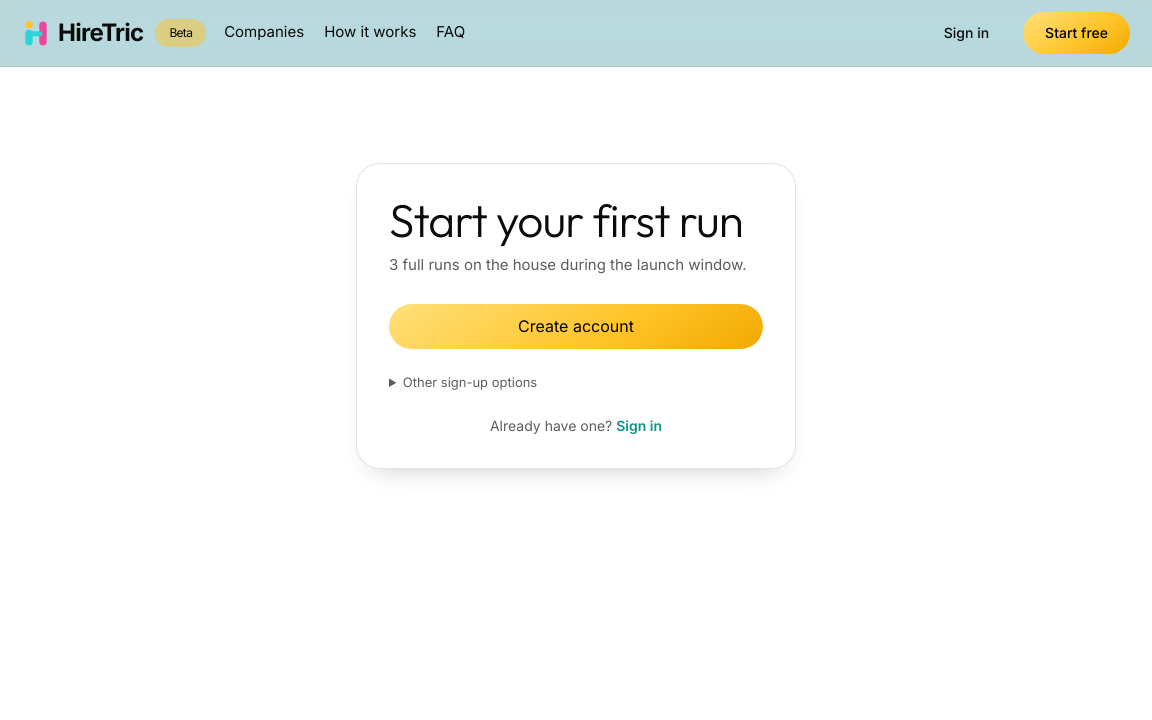
Test case: the legacy Google/email-password options are still present, just collapsed by default
Click the heading "Other sign-up options".
click(470, 382)  # box [403,374,537,390]
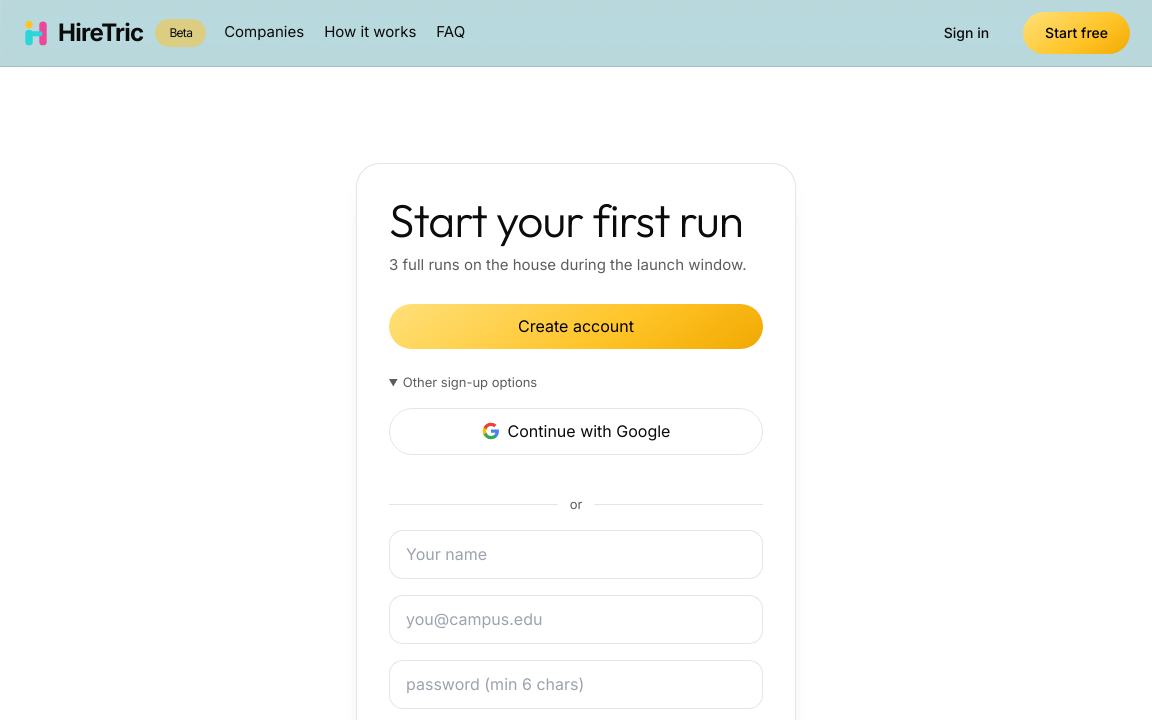
Expected: the button with test id "signup-google" is shown, [389,408,763,455]
Expected: the field with test id "signup-name" is shown, [389,530,763,579]
